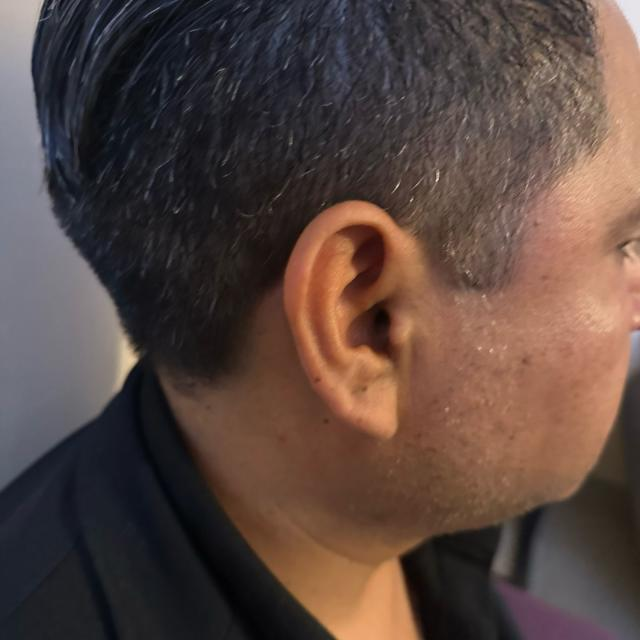ear: (281, 201, 418, 440)
